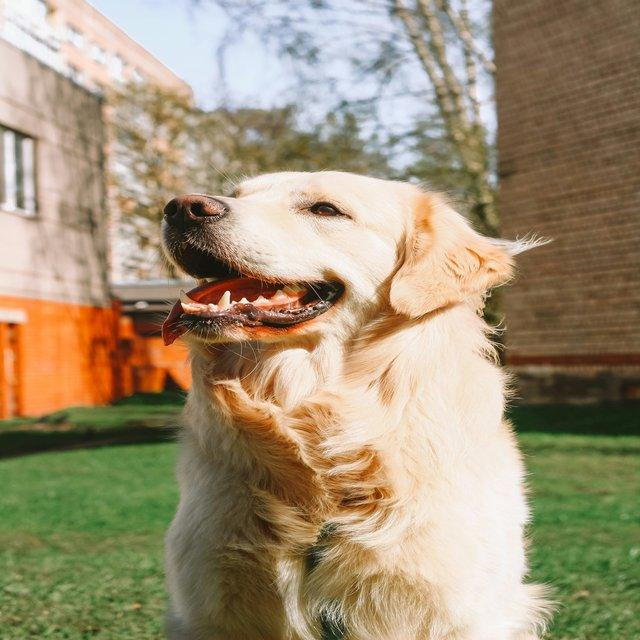retriever: (156, 167, 560, 638)
